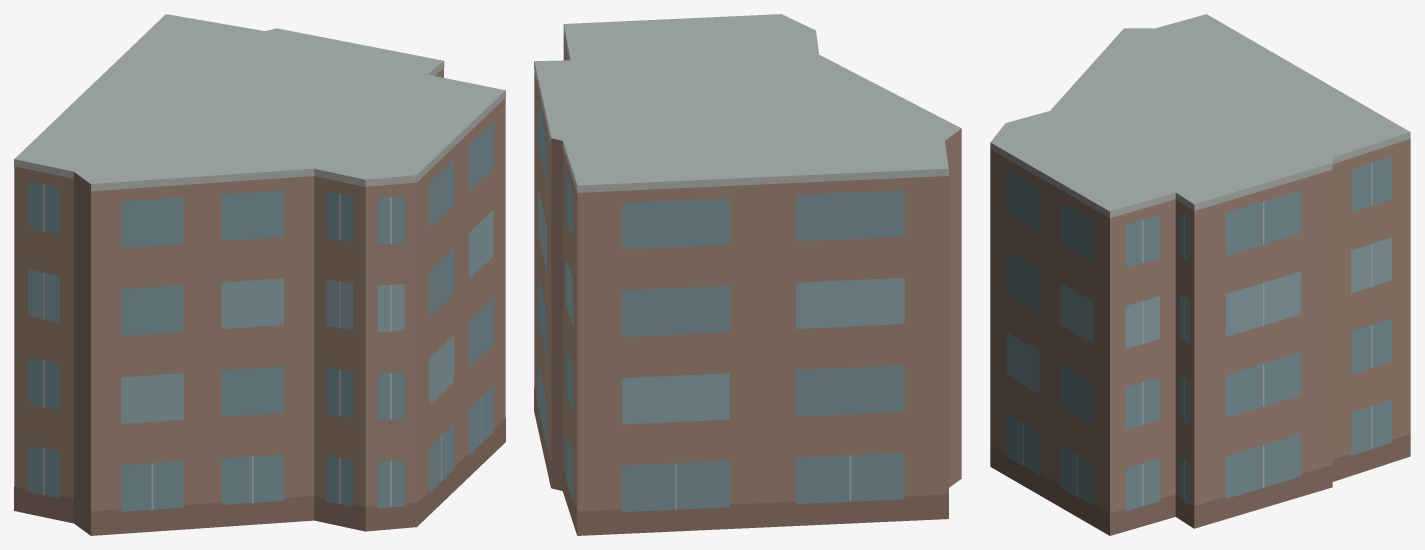
The model's file is survey-upis-32720217.glb.
3 views of the same model, side by side, from view 1: azimuth 30°, elevation 25°; view 2: azimuth 150°, elevation 25°; view 3: azimuth 270°, elevation 25° (orthographic). The views are drawn at different scales.
Parts seen in each view (by area): view 1: survey-upis-32720217.tmp; view 2: survey-upis-32720217.tmp; view 3: survey-upis-32720217.tmp.
Boxes of the visible parts, x1,y1,x2,y2 form: survey-upis-32720217.tmp: (14,14,505,535); survey-upis-32720217.tmp: (534,14,961,535); survey-upis-32720217.tmp: (990,14,1410,535).
Bounding box in the file's own units: 15.56 × 11.9 × 13.99.
